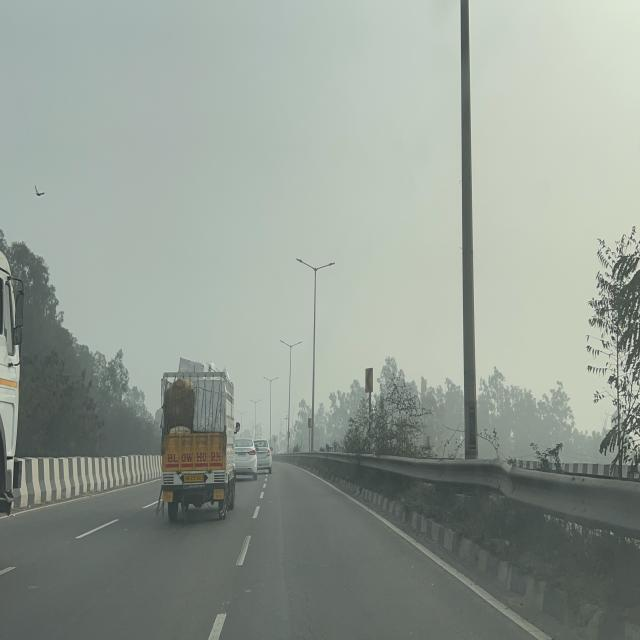TURN_LEFT: (366, 367, 373, 393), (308, 418, 312, 428), (288, 432, 290, 438)
